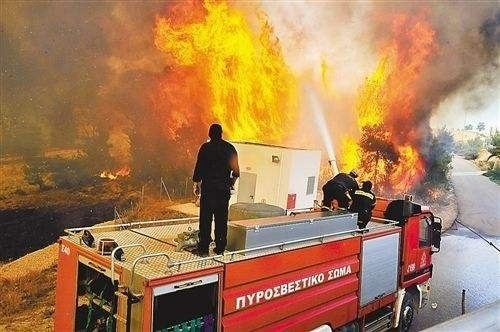fire: (150, 0, 311, 147), (335, 9, 437, 197)
